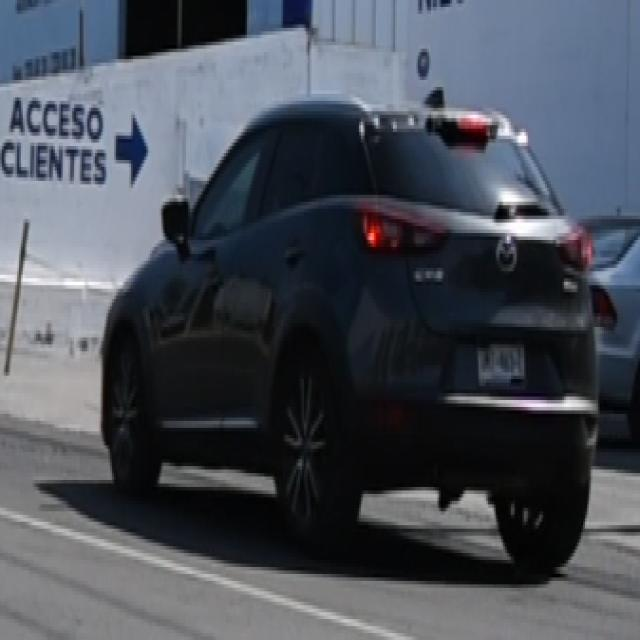placa: (479, 345, 527, 379)
